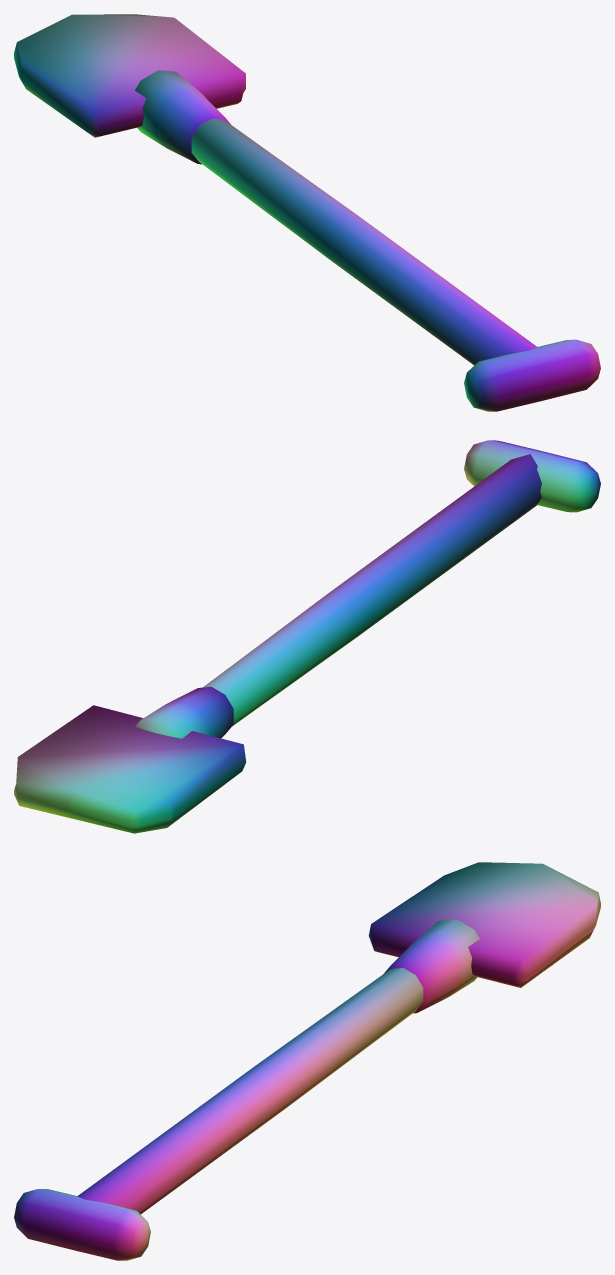
Rendered from SM_NPCKit_Prop_Spade.fbx.
3 views of the same model, one above another, from view 1: azimuth 30°, elevation 25°; view 2: azimuth 150°, elevation 25°; view 3: azimuth 330°, elevation 25° (orthographic).
Parts seen in each view (by area): view 1: SM_NPCKit_Prop_Spade; view 2: SM_NPCKit_Prop_Spade; view 3: SM_NPCKit_Prop_Spade.
Part boxes in pixels (x1,y1,x2,y2): SM_NPCKit_Prop_Spade: (14,14,600,411); SM_NPCKit_Prop_Spade: (14,440,600,833); SM_NPCKit_Prop_Spade: (14,862,600,1260).
Size of the model in its own units: 0.2268 by 0.0865 by 1.17.
